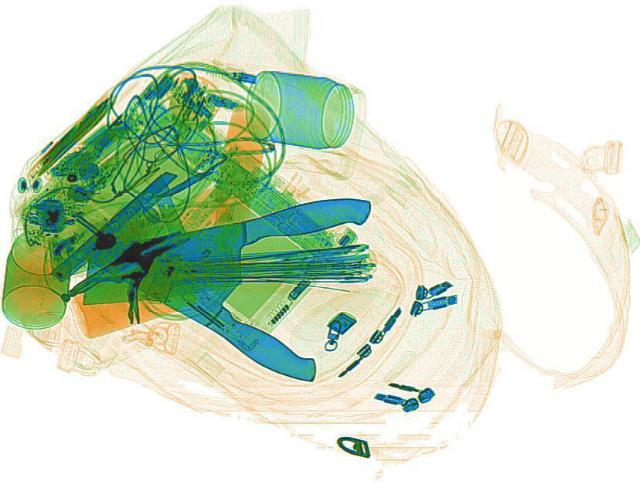Knife: (79, 205, 361, 388), (61, 191, 386, 307)
